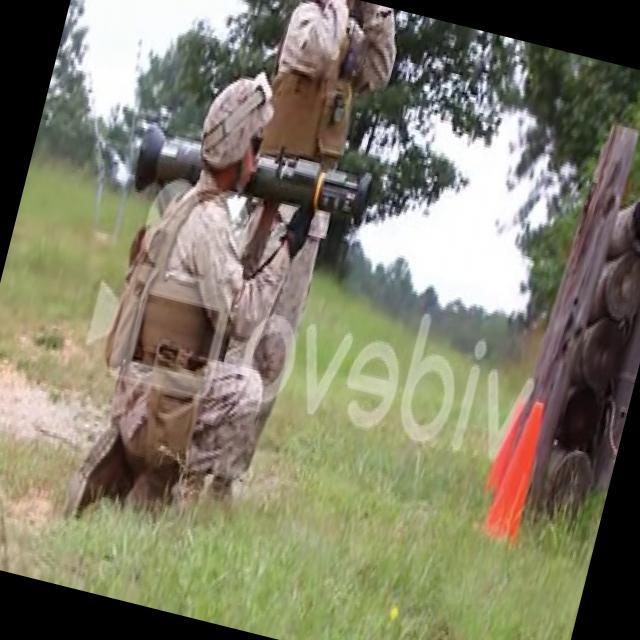rocket: (132, 122, 371, 240)
